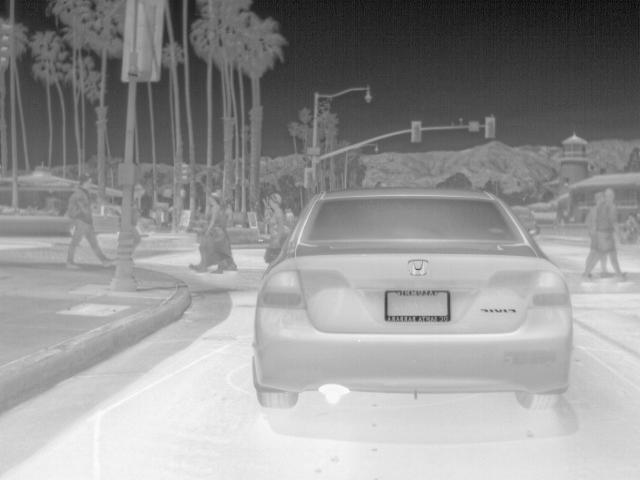car: (250, 188, 575, 416), (89, 202, 122, 236), (508, 204, 540, 237), (531, 200, 558, 226)
person: (61, 174, 120, 270), (586, 186, 629, 280), (188, 190, 230, 275), (261, 191, 291, 267), (132, 183, 147, 248), (586, 192, 600, 246)
